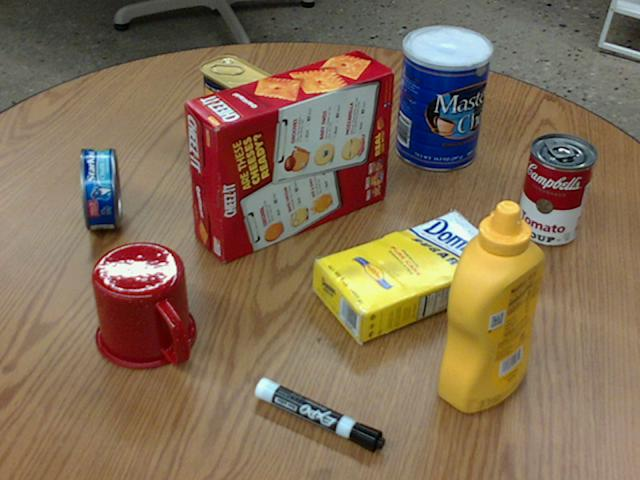cracker_box: (185, 49, 391, 262)
gelatin_box: (294, 66, 375, 121)
large_marker: (254, 378, 384, 451)
master_chef_can: (394, 25, 491, 169)
mug: (92, 242, 196, 368)
mustard_bottle: (439, 201, 543, 412)
potted_meat_can: (200, 54, 278, 149)
sugar_box: (312, 212, 510, 341)
tomato_soup_can: (518, 133, 596, 245)
tuna_fish_can: (81, 148, 120, 230)
